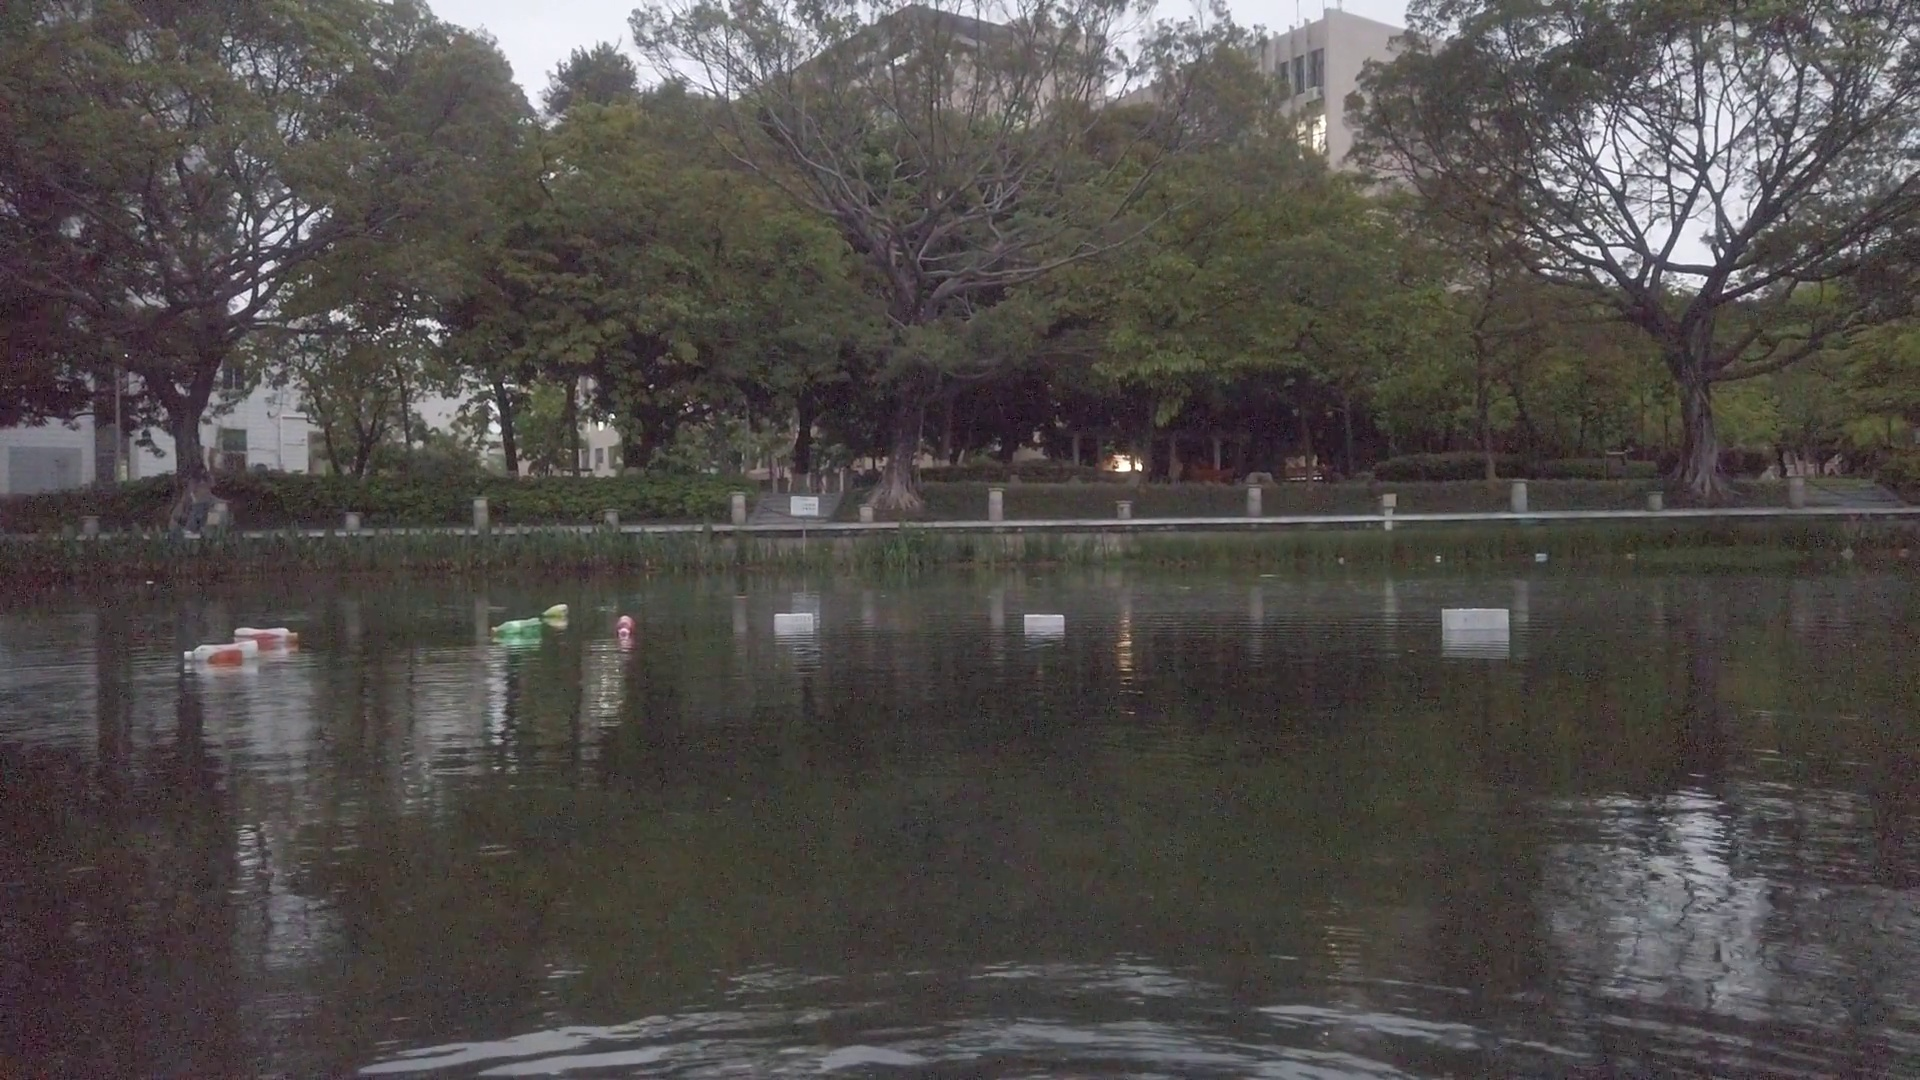bottle: (183, 641, 258, 665), (235, 622, 301, 646), (491, 615, 543, 641), (541, 601, 570, 622), (618, 611, 633, 644)
carton: (1441, 609, 1511, 636), (1022, 612, 1065, 634), (771, 612, 814, 629), (1535, 551, 1548, 560)
